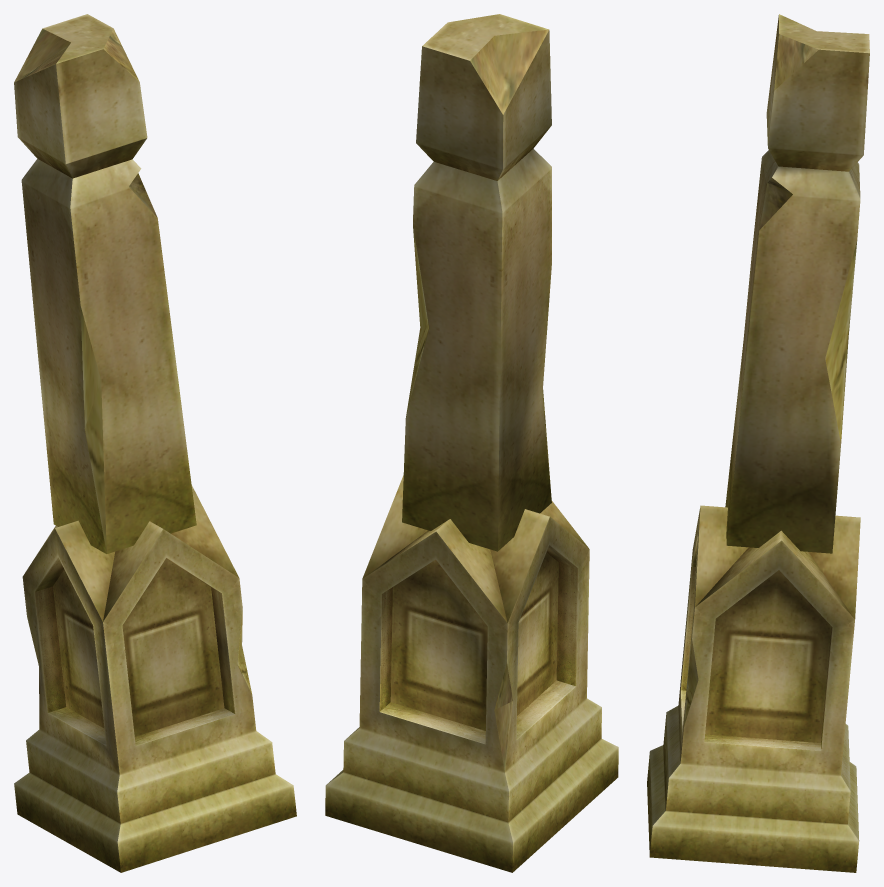
The model's file is a_SWCtomb11.glb.
The picture shows the model from 3 angles, left to right: view 1: azimuth 30°, elevation 25°; view 2: azimuth 150°, elevation 25°; view 3: azimuth 270°, elevation 25°; orthographic projection. The views are drawn at different scales.
Parts seen in each view (by area): view 1: a_SWCtomb11; view 2: a_SWCtomb11; view 3: a_SWCtomb11.
Boxes of the visible parts, <box> form: a_SWCtomb11: <box>14,14,296,872</box>; a_SWCtomb11: <box>325,14,618,872</box>; a_SWCtomb11: <box>647,14,869,872</box>.
Bounding box in the file's own units: 0.8598 × 3.55 × 0.9099.
1 material, 1 textured.
